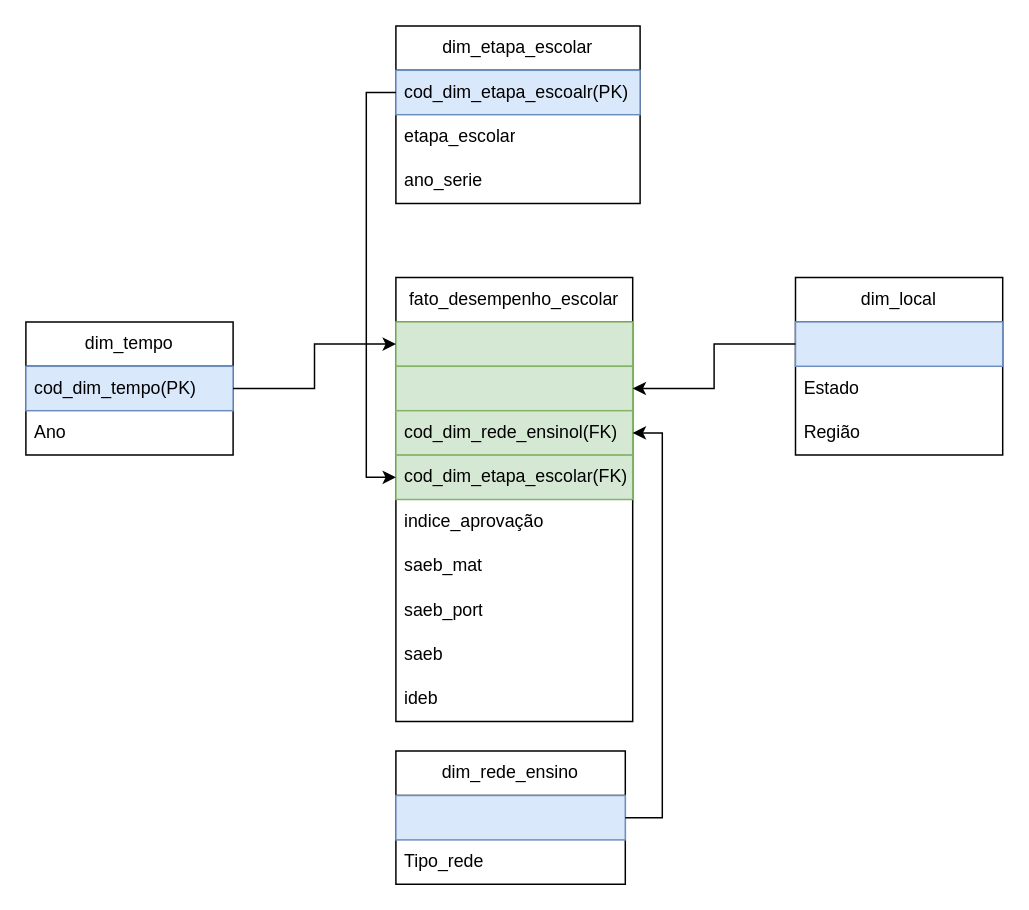
This 1029x910 diagram has some shape labels left out. The centre of each missing label's shape, as x and y in pixels:
"cod_dim_local(FK)" belongs at point 513,388.
"cod_dim_local(PK)" belongs at point 898,343.
"cod_dim_rede_ensinol(PK)" belongs at point 509,817.
"cod_dim_tempo(F K)" belongs at point 513,343.
